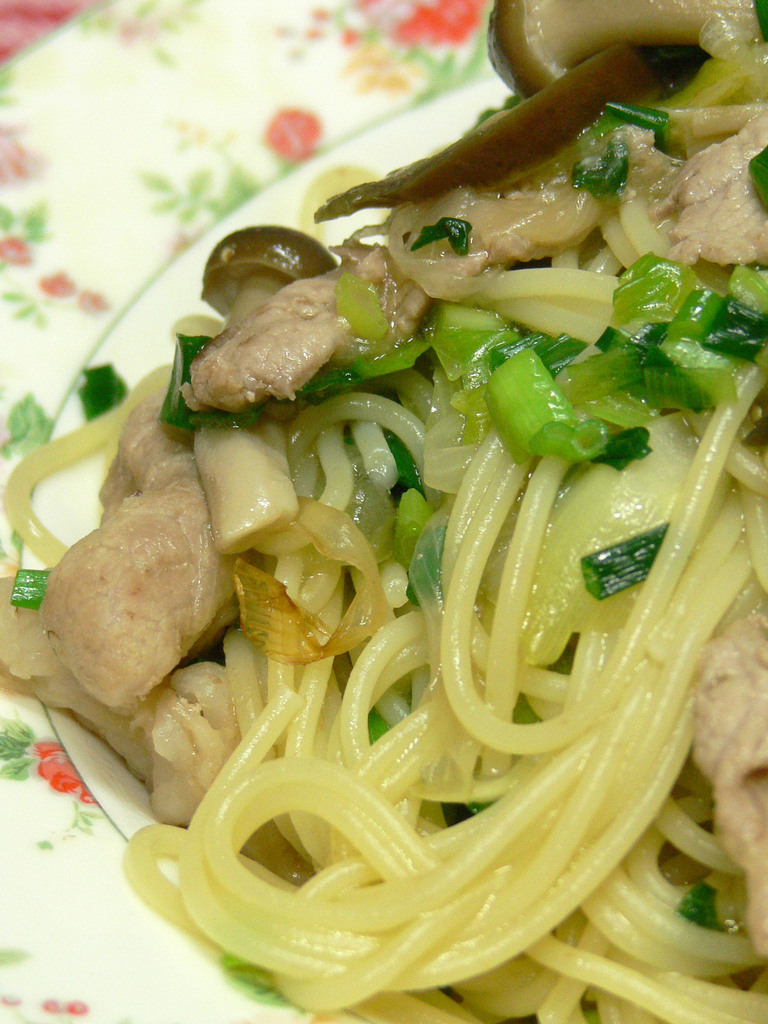pasta: (54, 0, 761, 1024)
